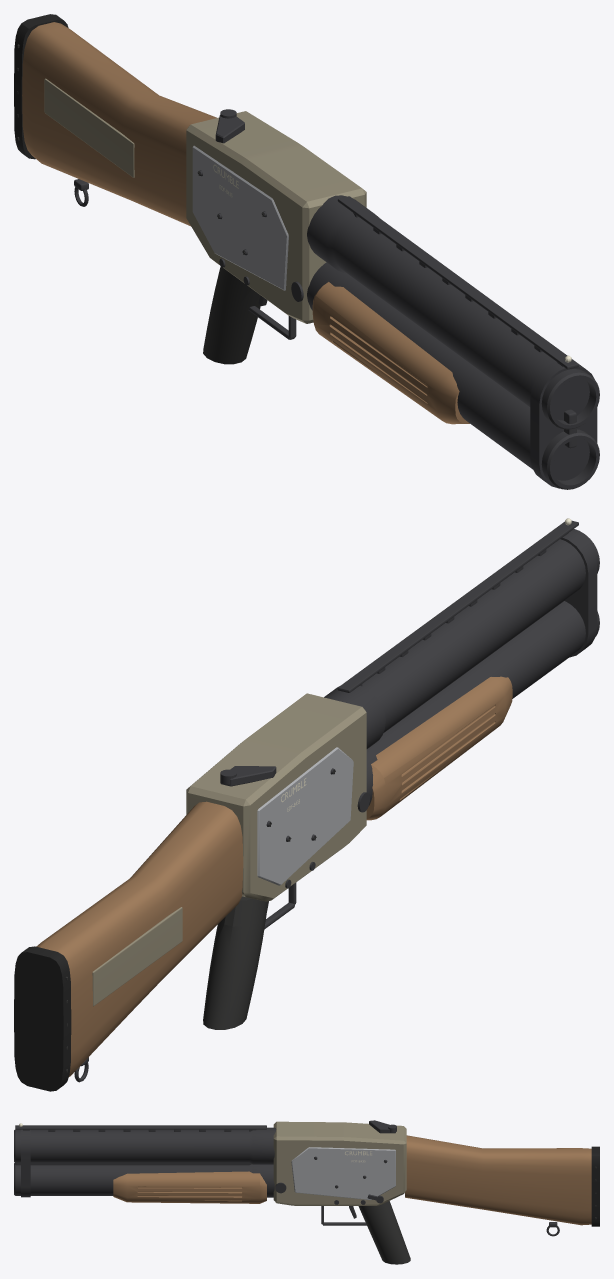
The model's file is crumble.glb.
3 renders of one model, top to bottom at view 1: azimuth 30°, elevation 25°; view 2: azimuth 150°, elevation 25°; view 3: azimuth 270°, elevation 25°, orthographic. The views are drawn at different scales.
Parts seen in each view (by area): view 1: Body; view 2: Body; view 3: Body.
Boxes of the visible parts, bbox=[...] form: Body: bbox=[14, 14, 599, 489]; Body: bbox=[14, 518, 599, 1091]; Body: bbox=[14, 1120, 599, 1264].
Size of the model in its own units: 0.066 by 0.2155 by 0.839.
